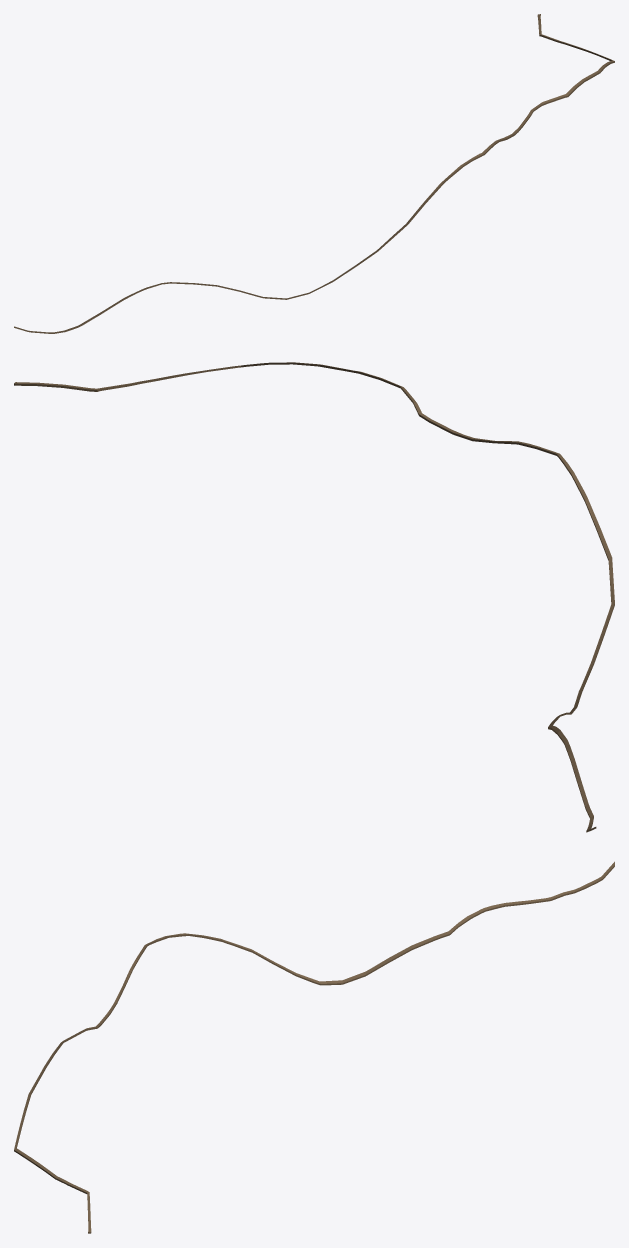
3 renders of one model, top to bottom at view 1: azimuth 90°, elevation 25°; view 2: azimuth 150°, elevation 25°; view 3: azimuth 270°, elevation 25°, orthographic. The views are drawn at different scales.
Bounding box in the file's own units: 348 × 44.65 × 259.
